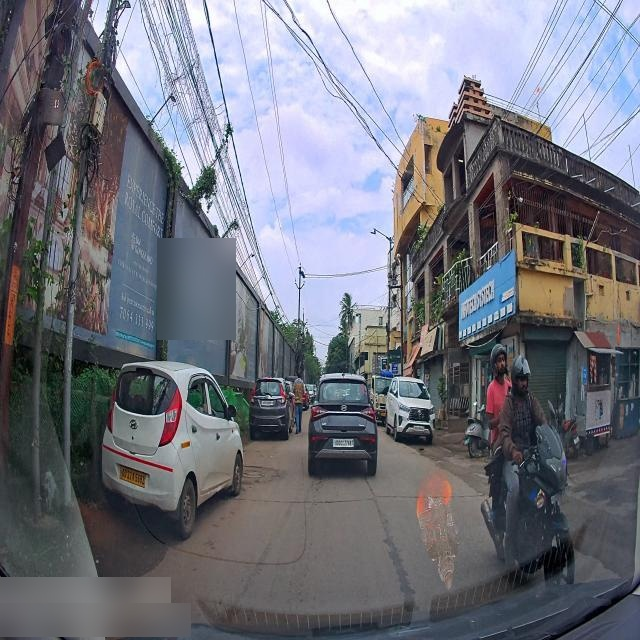pothole: (418, 447, 448, 460)
